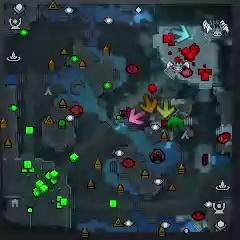x1: (128, 107, 147, 124)
x2: (158, 97, 176, 118)
x3: (171, 24, 190, 43)
x4: (166, 114, 184, 132)
x5: (139, 93, 157, 112)
